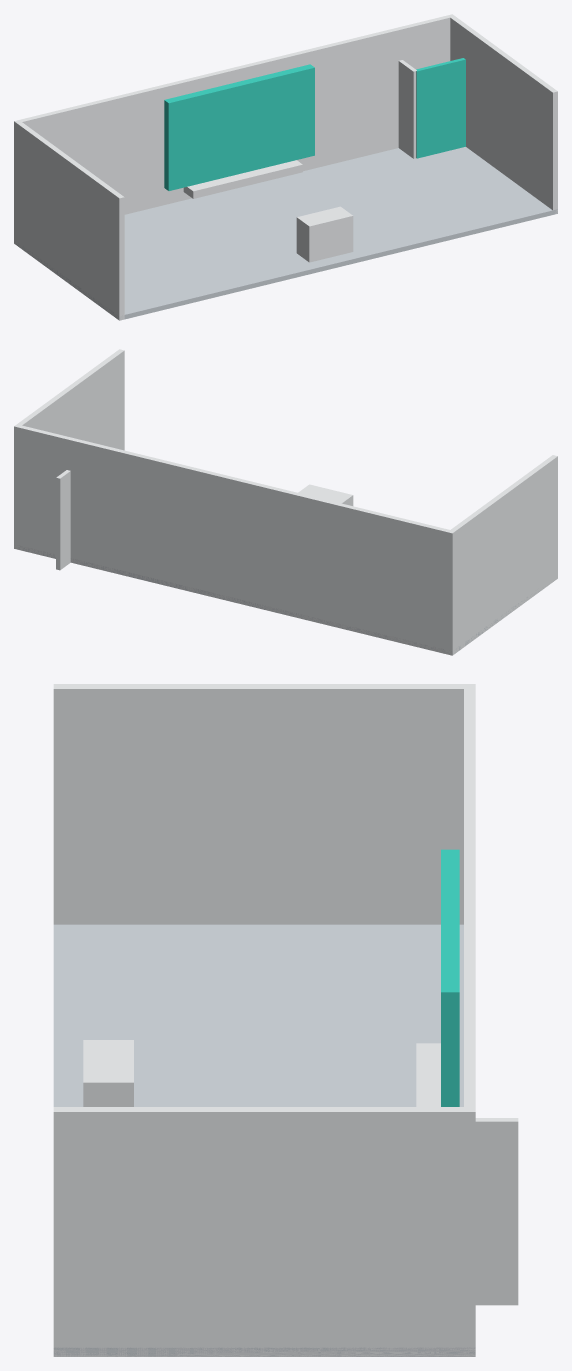
The picture shows the model from 3 angles, top to bottom: view 1: azimuth 30°, elevation 25°; view 2: azimuth 150°, elevation 25°; view 3: azimuth 270°, elevation 25°; orthographic projection. The views are drawn at different scales.
Visible parts, largest first — view 1: Exhibition Booth Concept; view 2: Exhibition Booth Concept; view 3: Exhibition Booth Concept.
Part boxes in pixels (<box>): Exhibition Booth Concept: <box>14,14,557,320</box>; Exhibition Booth Concept: <box>14,349,557,655</box>; Exhibition Booth Concept: <box>53,684,518,1356</box>.
Size of the model in its own units: 12 by 3.2 by 5.51.
